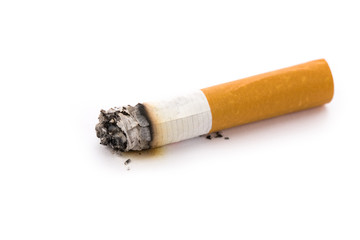cigarette: (93, 57, 338, 155)
